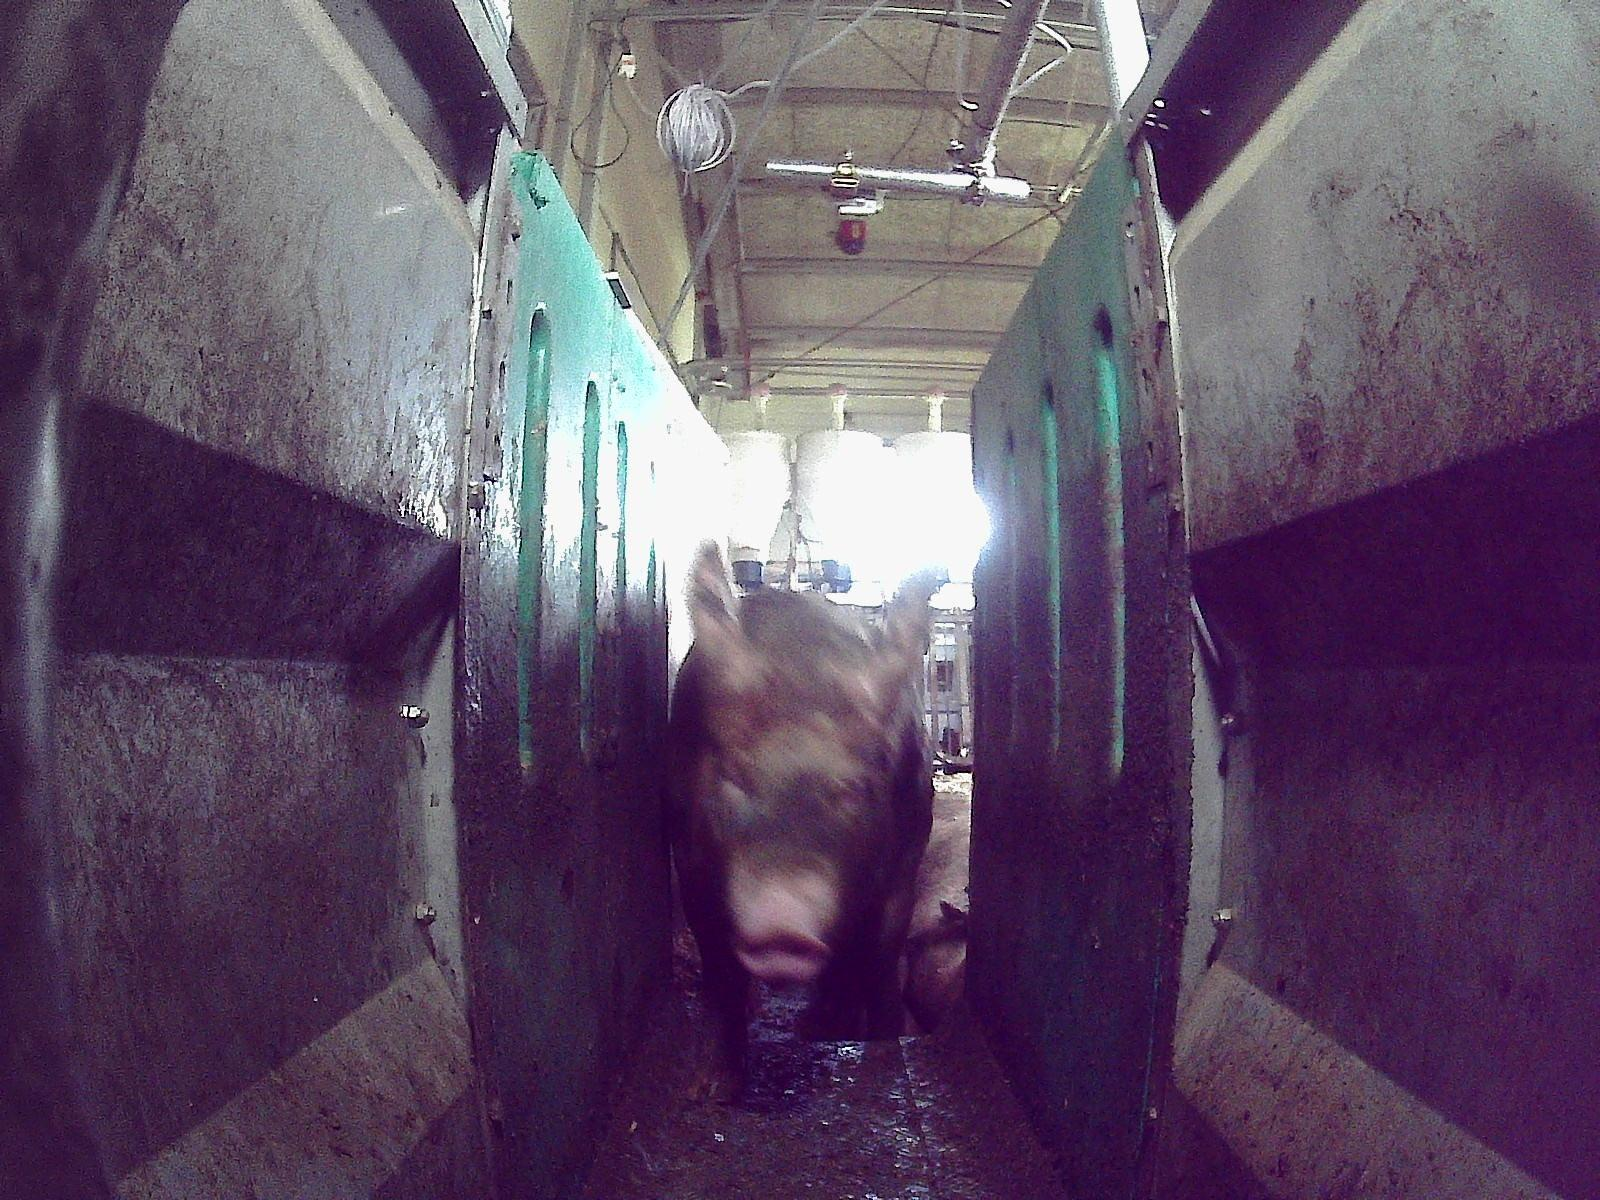Face: (695, 651, 889, 980)
